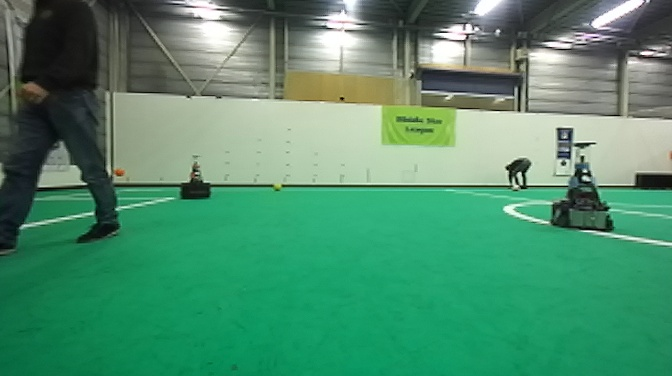ball: (110, 165, 127, 180), (271, 179, 285, 194), (510, 182, 522, 194)
human: (1, 1, 123, 254), (507, 146, 534, 192)
robot: (549, 139, 616, 232), (177, 153, 215, 201)
